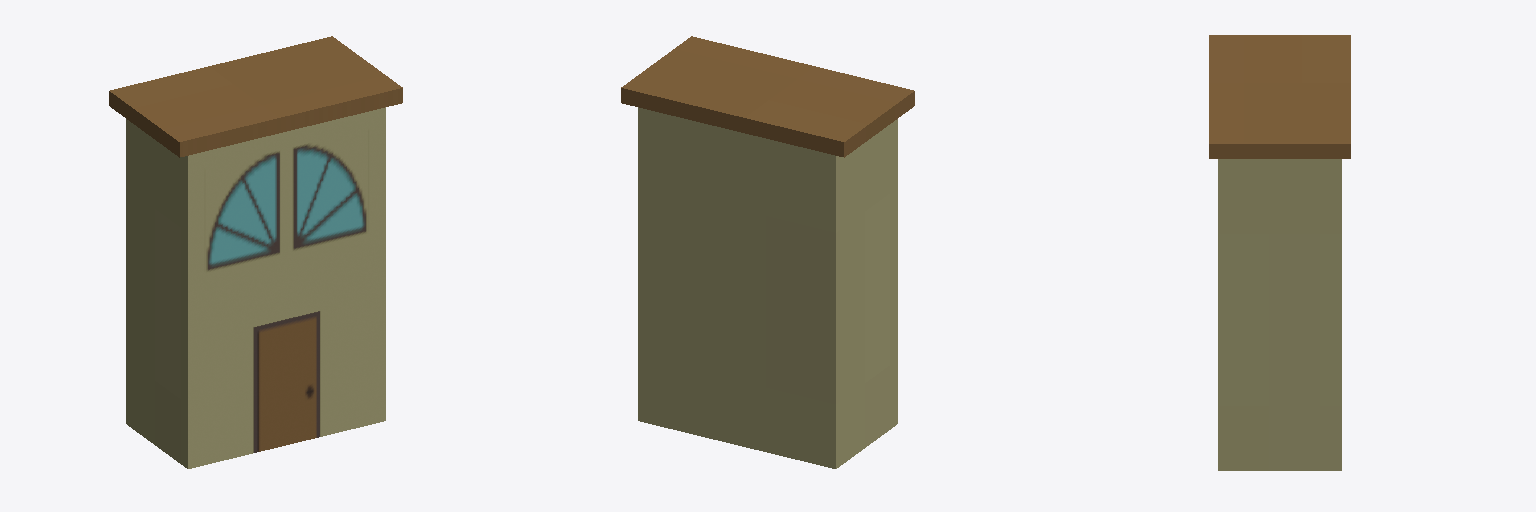
3 views of the same model, side by side, from view 1: azimuth 30°, elevation 25°; view 2: azimuth 150°, elevation 25°; view 3: azimuth 270°, elevation 25° (orthographic).
Parts seen in each view (by area): view 1: Cube; view 2: Cube; view 3: Cube.
Boxes of the visible parts, x1=… form: Cube: x1=109, y1=36, x2=402, y2=468; Cube: x1=621, y1=36, x2=914, y2=468; Cube: x1=1209, y1=35, x2=1350, y2=470.
Size of the model in its own units: 4.19 by 5.97 by 2.29.
Materials: 1 (1 with a texture image).